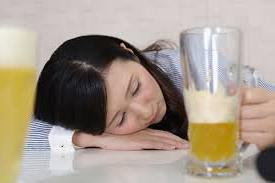Drunk: (99, 56, 166, 136)
